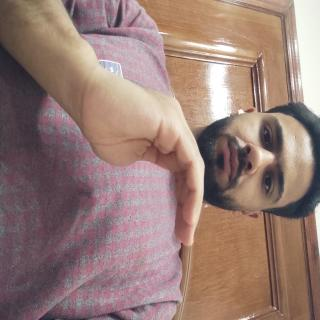HAA: (52, 146, 185, 320)
